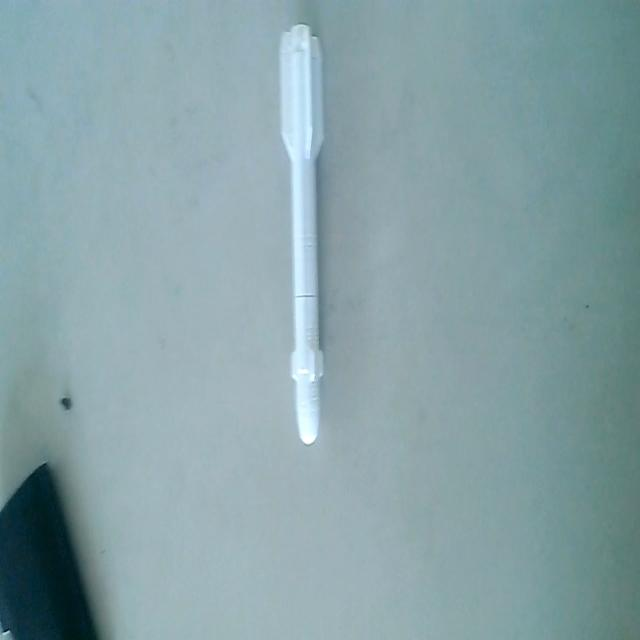Rocket: (275, 23, 327, 454)
